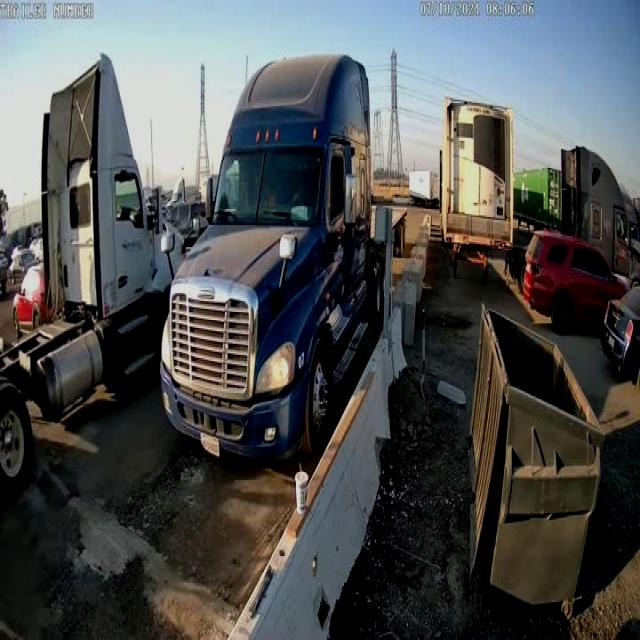BOBTAIL: (159, 52, 410, 464), (0, 46, 182, 490)
